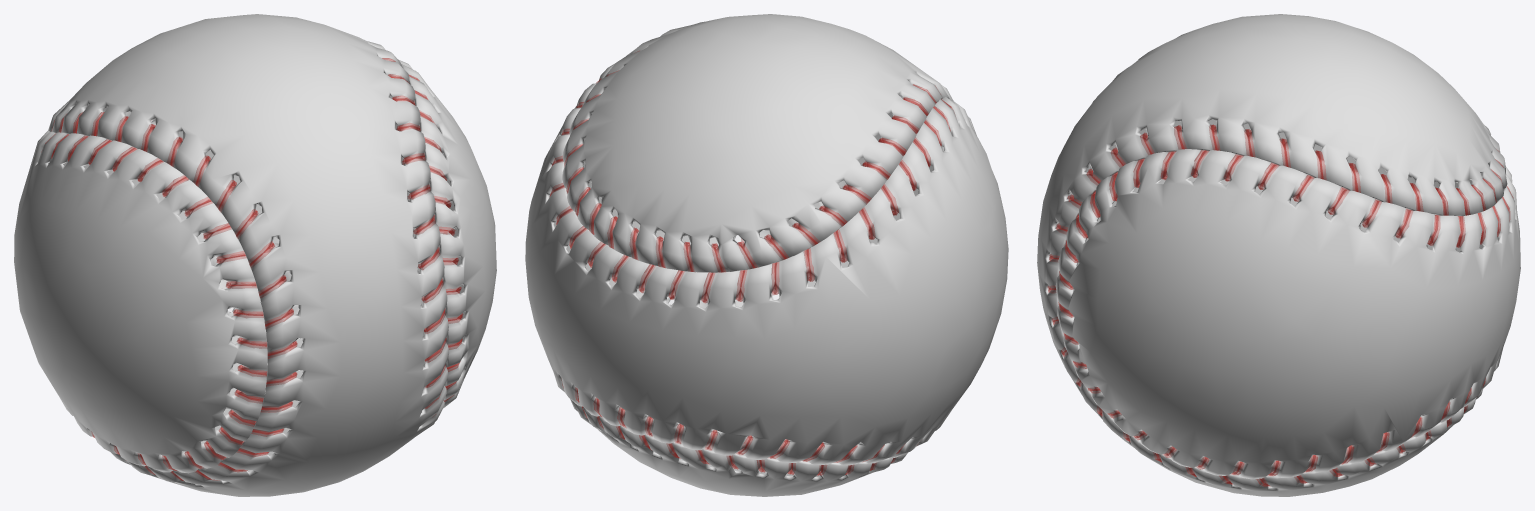
The model's file is 59-baseball ball.glb.
3 views of the same model, side by side, from view 1: azimuth 30°, elevation 25°; view 2: azimuth 150°, elevation 25°; view 3: azimuth 270°, elevation 25° (orthographic).
Parts seen in each view (by area): view 1: baseball; view 2: baseball; view 3: baseball.
Boxes of the visible parts, <box> form: baseball: <box>14,14,496,496</box>; baseball: <box>525,14,1008,496</box>; baseball: <box>1037,14,1520,496</box>.
Size of the model in its own units: 0.0734 by 0.0735 by 0.0737.
